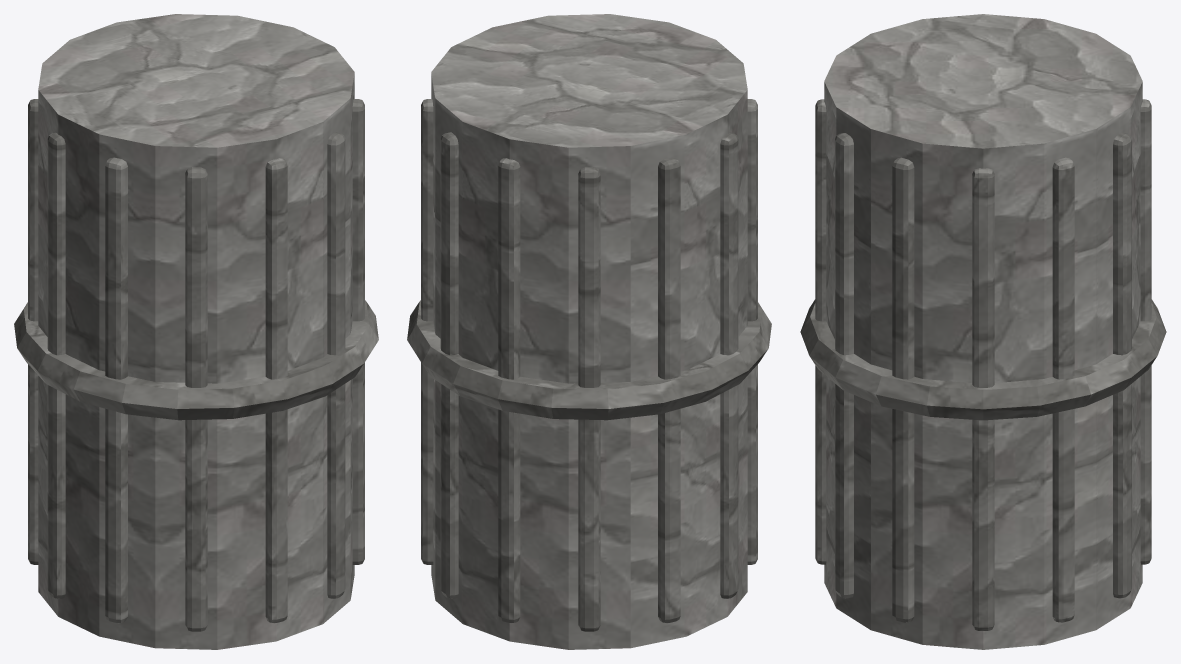
File: column_shaft__ancient_brick.glb
The picture shows the model from 3 angles, left to right: view 1: azimuth 30°, elevation 25°; view 2: azimuth 150°, elevation 25°; view 3: azimuth 270°, elevation 25°; orthographic projection.
Parts seen in each view (by area): view 1: model; view 2: model; view 3: model.
Boxes of the visible parts, x1,y1,x2,y2 form: model: (14,14,378,649); model: (407,14,771,649); model: (800,14,1166,649).
Bounding box in the file's own units: 0.662 × 1 × 0.662.
Materials: 2 (2 with a texture image).
